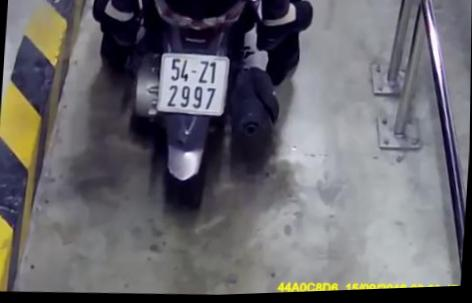LP: (156, 49, 232, 121)
